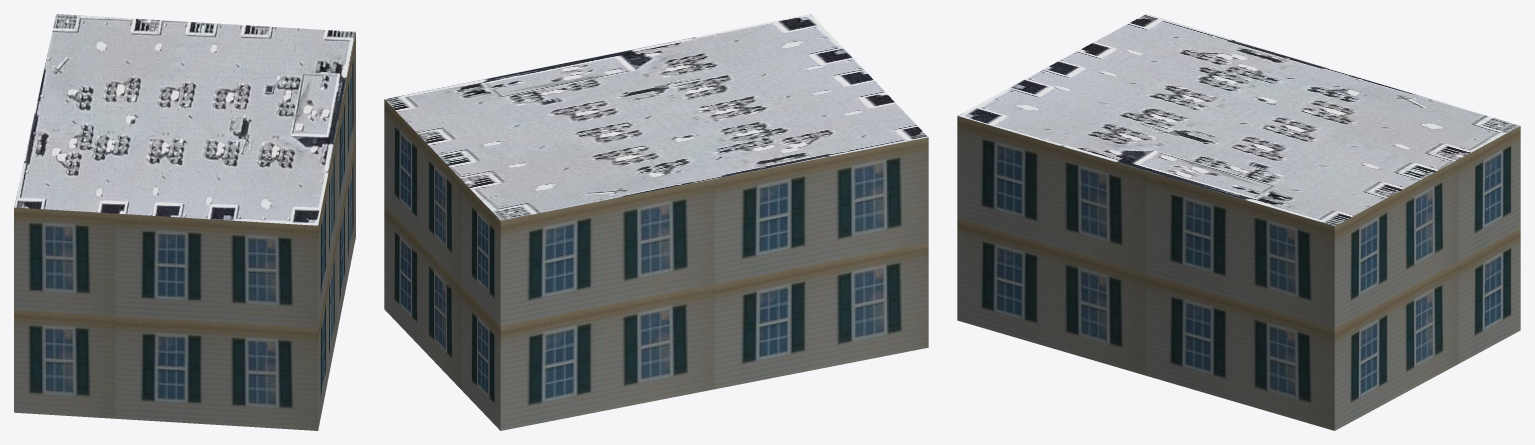
Rendered from ResTex__2150.fbx.
3 views of the same model, side by side, from view 1: azimuth 30°, elevation 25°; view 2: azimuth 150°, elevation 25°; view 3: azimuth 270°, elevation 25° (orthographic). The views are drawn at different scales.
Parts seen in each view (by area): view 1: CityEngineMaterial_7_m, CityEngineMaterial_4_m; view 2: CityEngineMaterial_7_m, CityEngineMaterial_4_m; view 3: CityEngineMaterial_7_m, CityEngineMaterial_4_m.
Part boxes in pixels (x1,y1,x2,y2): CityEngineMaterial_7_m: (14,33,355,430); CityEngineMaterial_4_m: (14,14,355,225); CityEngineMaterial_7_m: (384,99,928,430); CityEngineMaterial_4_m: (384,14,927,220); CityEngineMaterial_7_m: (957,116,1520,430); CityEngineMaterial_4_m: (957,14,1519,226).
Size of the model in its own units: 13.35 by 6 by 14.97.
2 materials, 2 textured.
